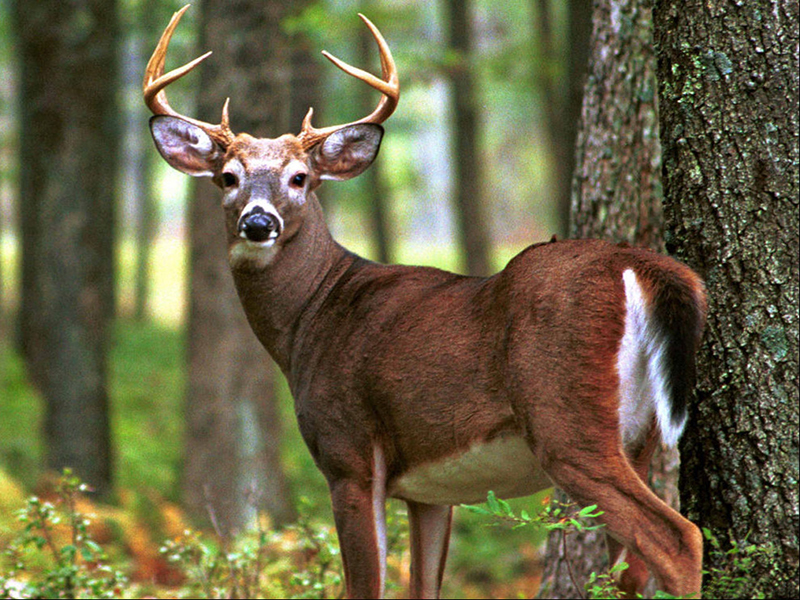cervo: (137, 1, 739, 600)
